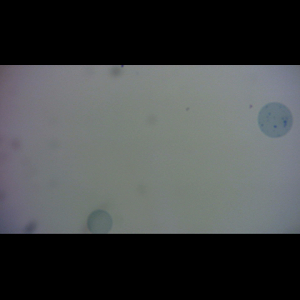erythrocyte: (85, 208, 113, 235)
punctate reticulocyte: (256, 101, 294, 139)
